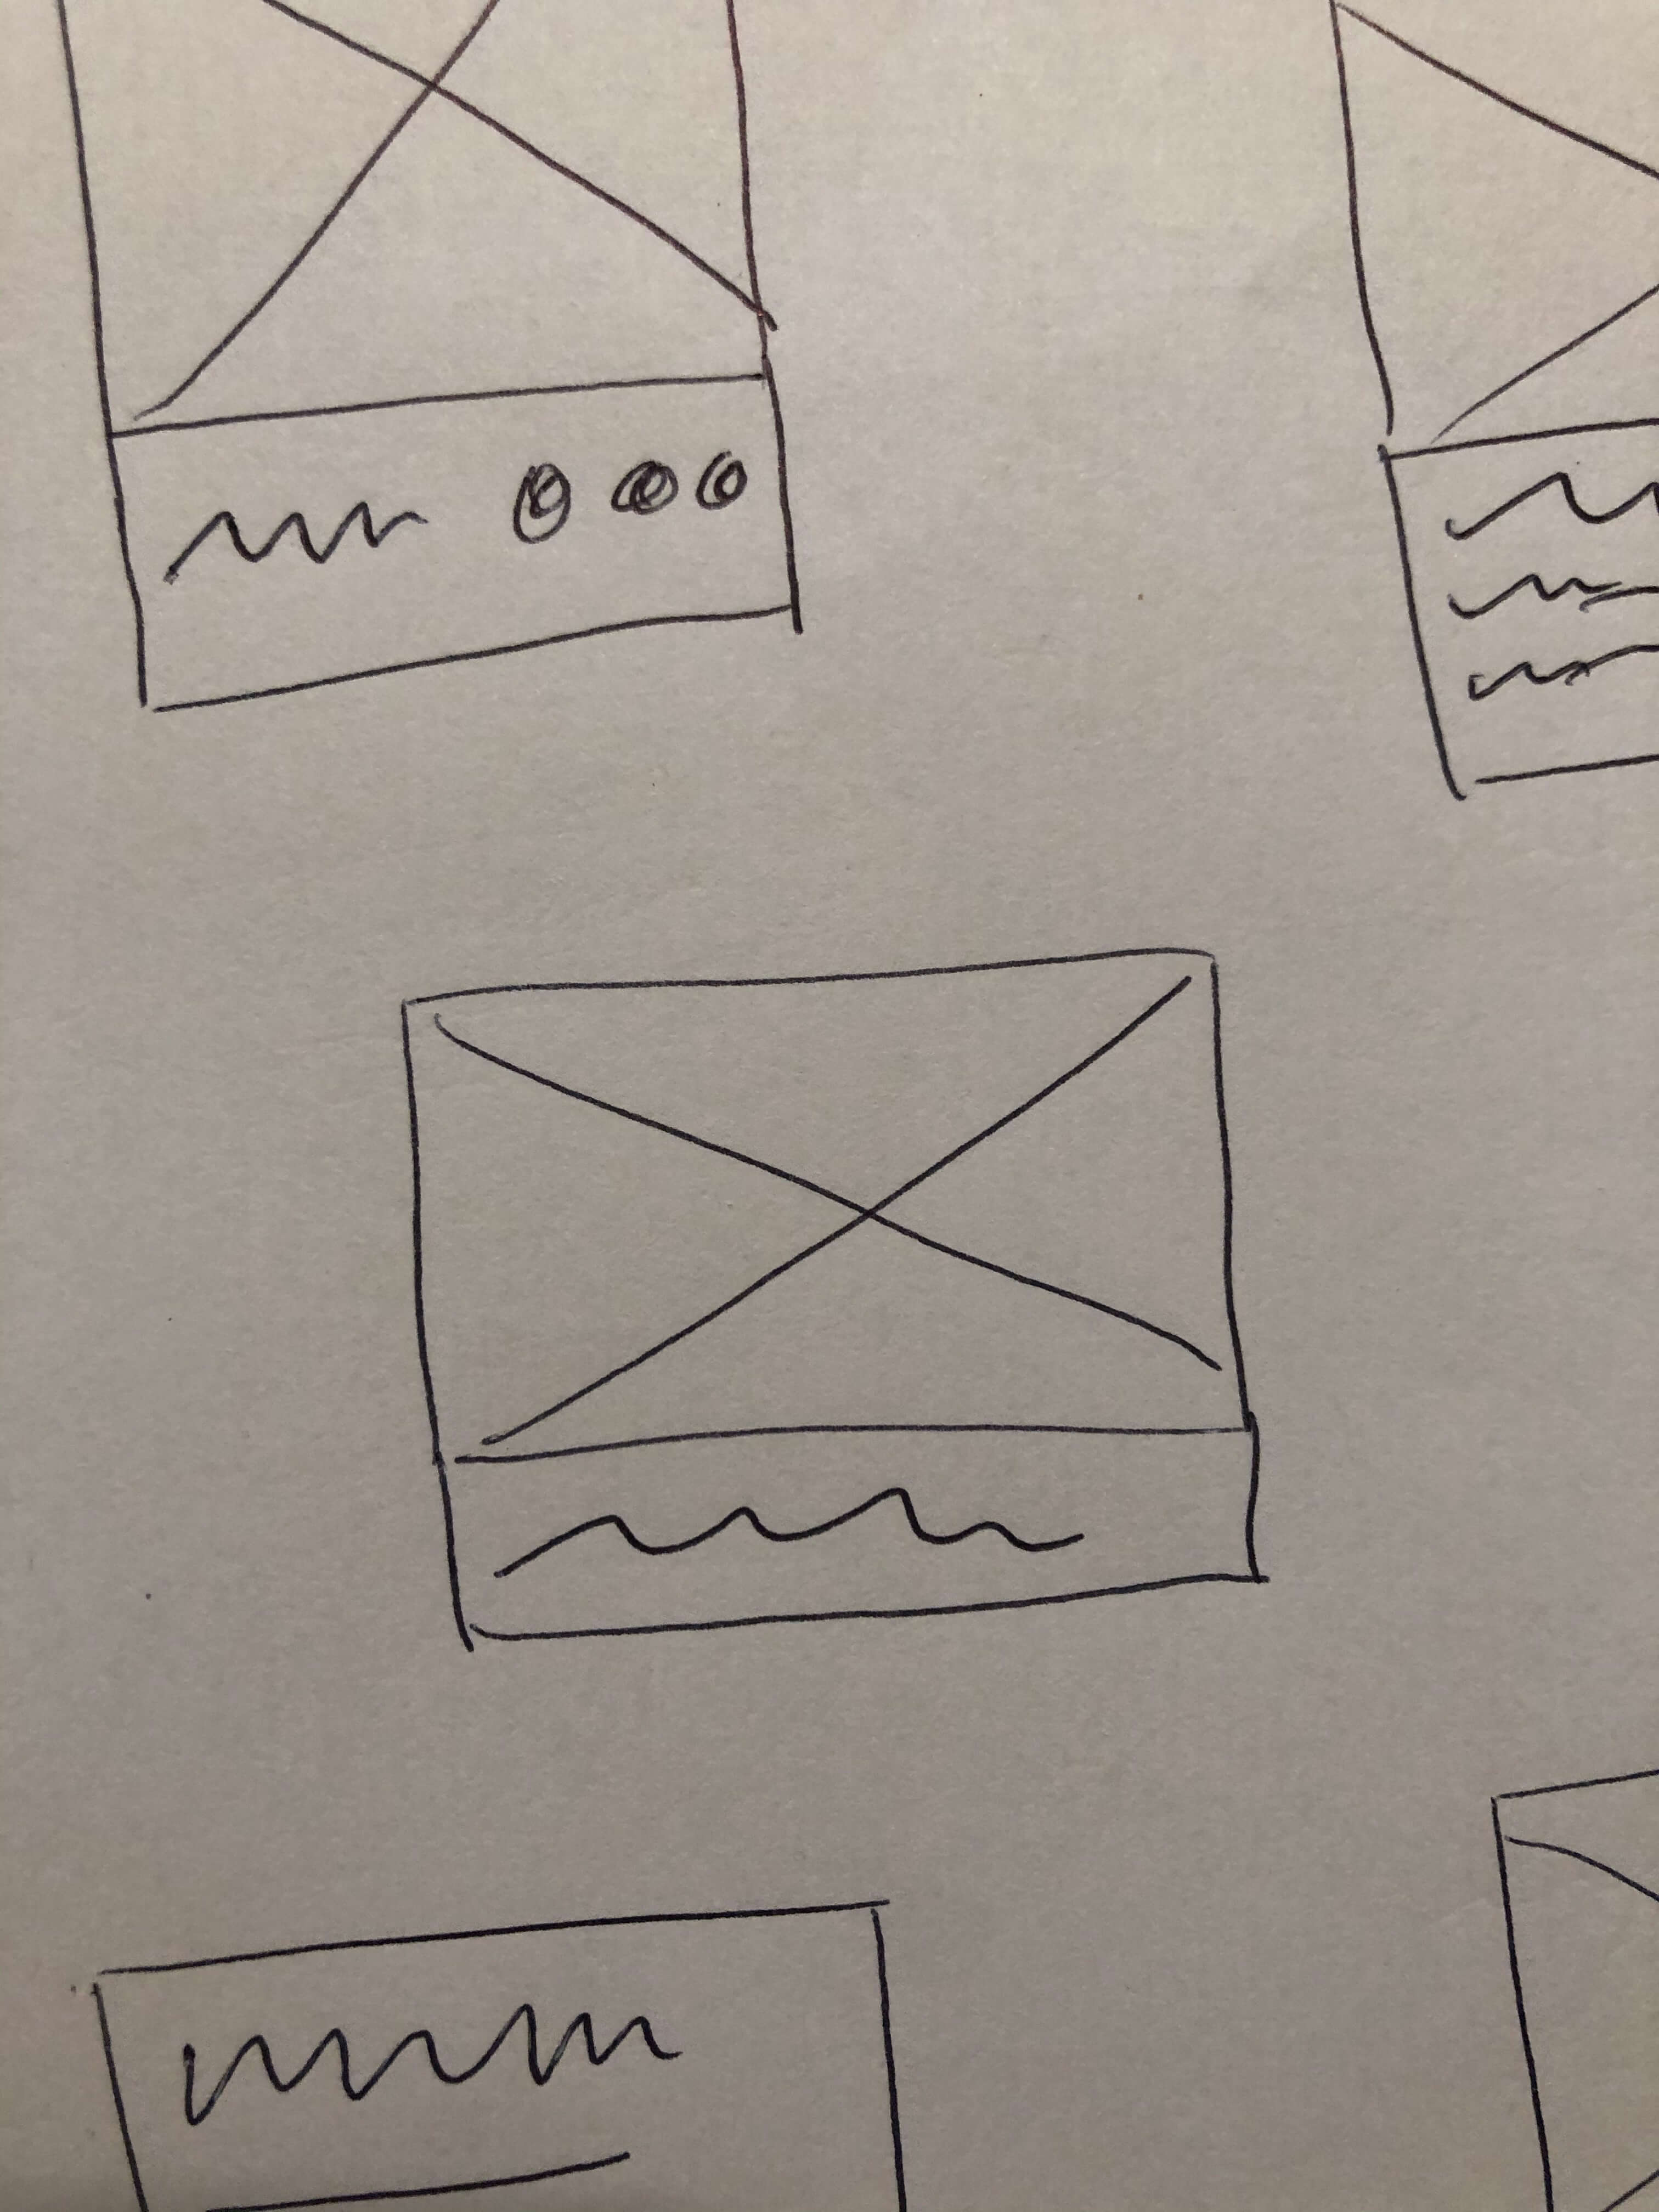card: (373, 928, 1307, 1695)
